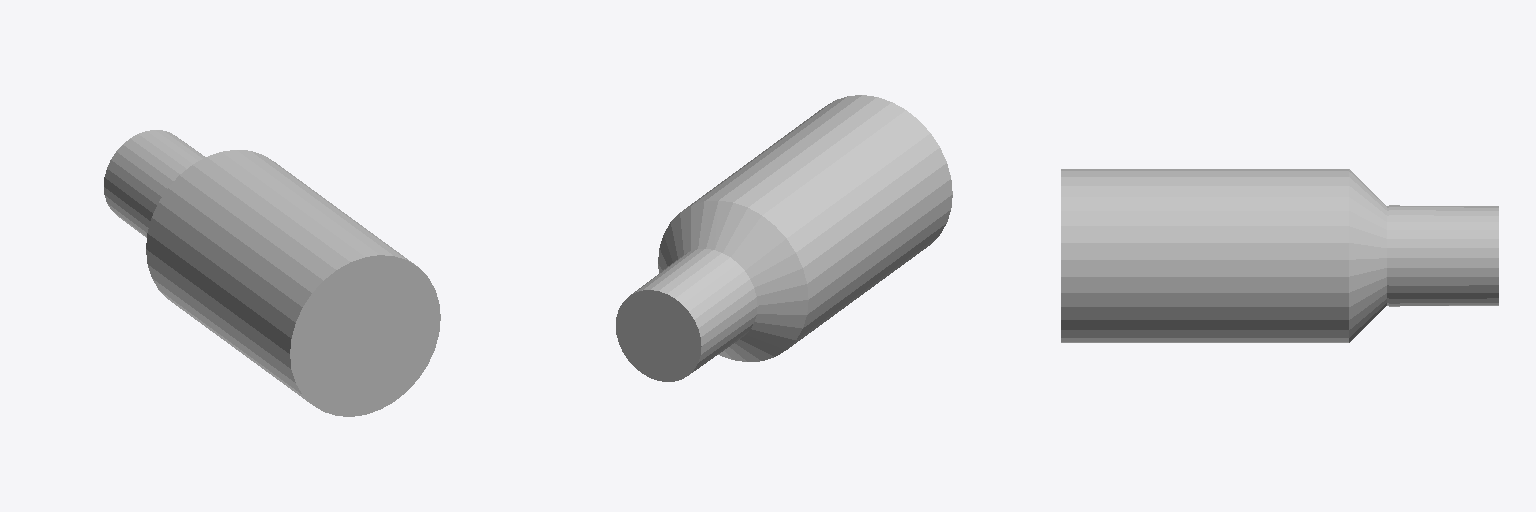
File: bottle.obj
3 renders of one model, left to right at view 1: azimuth 30°, elevation 25°; view 2: azimuth 150°, elevation 25°; view 3: azimuth 270°, elevation 25°, orthographic.
Parts seen in each view (by area): view 1: Bottle; view 2: Bottle; view 3: Bottle.
Boxes of the visible parts, <box> form: Bottle: <box>104,130,440,416</box>; Bottle: <box>616,95,952,381</box>; Bottle: <box>1061,169,1498,342</box>.
Size of the model in its own units: 0.3538 by 0.3538 by 0.8894.